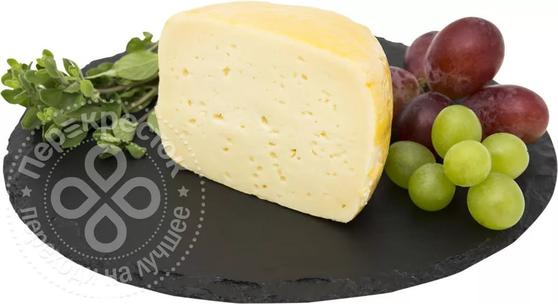cheese: (152, 2, 395, 224)
